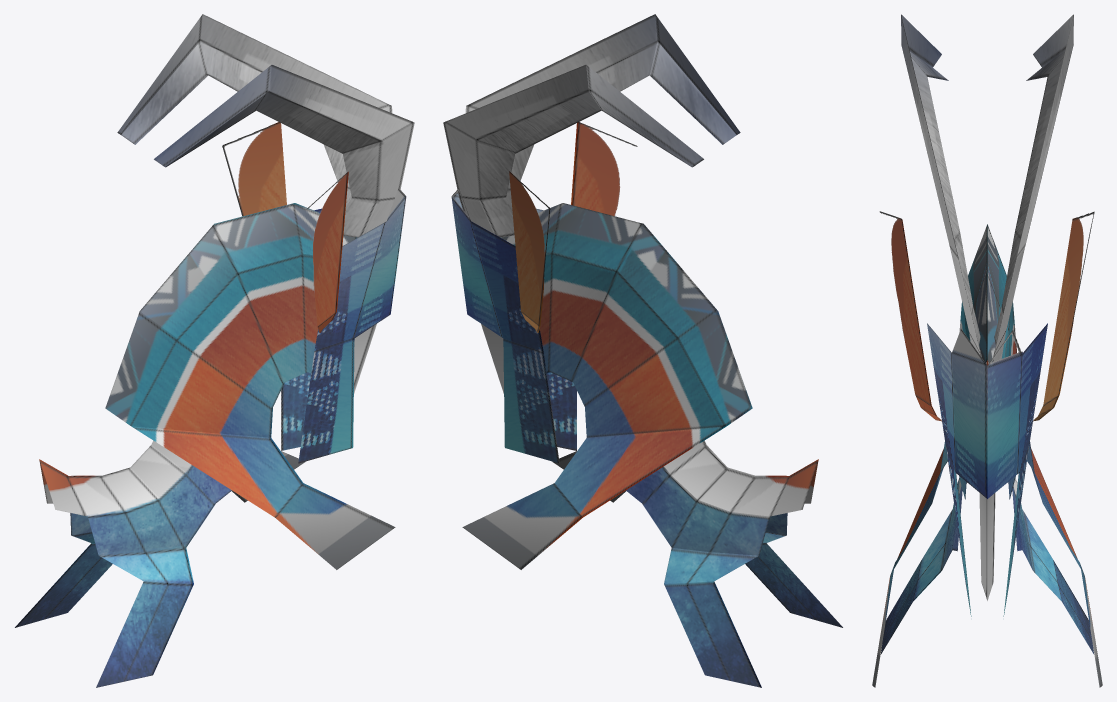
The model's file is goat_2.obj.
The picture shows the model from 3 angles, left to right: view 1: azimuth 30°, elevation 25°; view 2: azimuth 150°, elevation 25°; view 3: azimuth 270°, elevation 25°; orthographic projection. The views are drawn at different scales.
Visible parts, largest first — view 1: goat:Mesh; view 2: goat:Mesh; view 3: goat:Mesh.
Boxes of the visible parts, left/top/right/bottom form: goat:Mesh: left=15, top=14, right=414, bottom=687; goat:Mesh: left=443, top=14, right=842, bottom=687; goat:Mesh: left=872, top=14, right=1102, bottom=687.
Bounding box in the file's own units: 128 × 191 × 55.63.
1 material, 1 textured.
